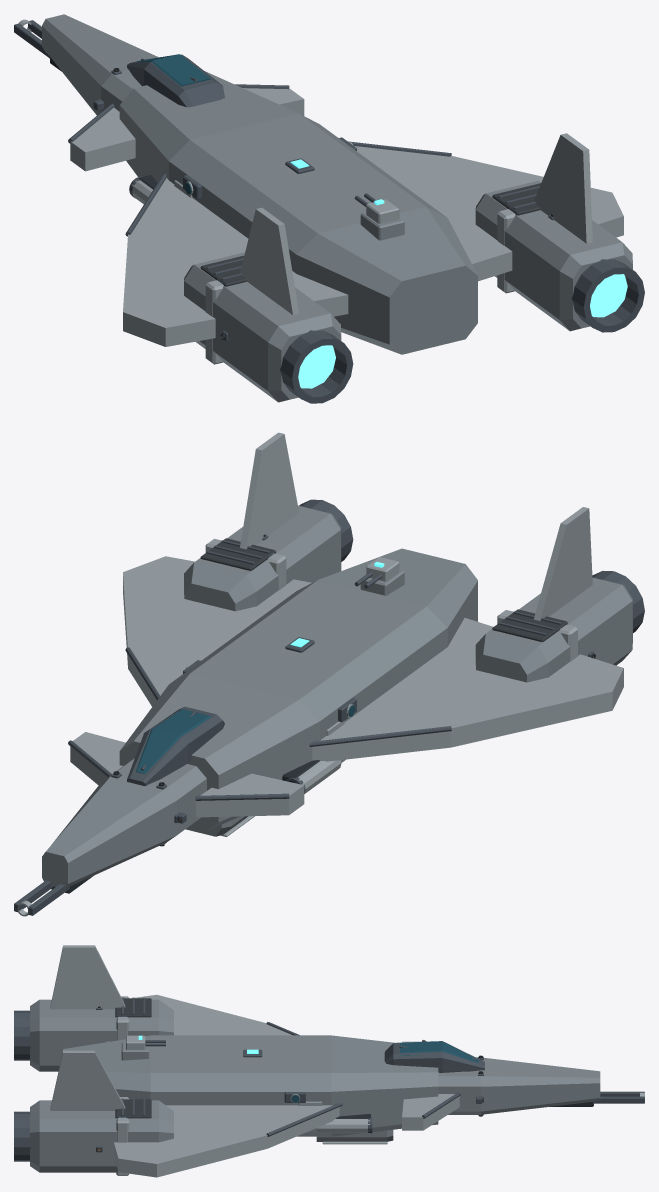
File: interceptor_t5.glb
3 views of the same model, one above another, from view 1: azimuth 30°, elevation 25°; view 2: azimuth 150°, elevation 25°; view 3: azimuth 270°, elevation 25° (orthographic). The views are drawn at different scales.
Visible parts, largest first — view 1: FleetHull, mesh_pd_yaw_1; view 2: FleetHull; view 3: FleetHull.
Part boxes in pixels (left/top/right/bottom): FleetHull: left=14, top=14, right=644, bottom=403; mesh_pd_yaw_1: left=366, top=199, right=399, bottom=223; FleetHull: left=14, top=432, right=644, bottom=916; FleetHull: left=14, top=945, right=644, bottom=1177.
Bounding box in the file's own units: 18.8 × 7.16 × 29.61.
